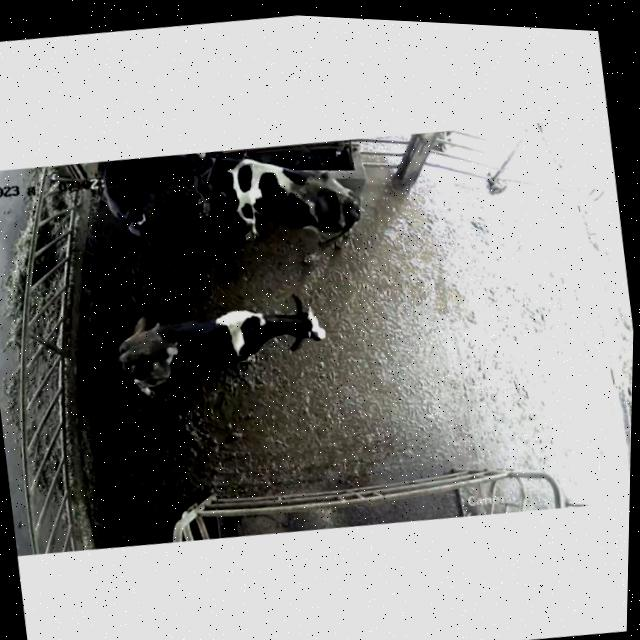propping: (142, 146, 230, 201)
